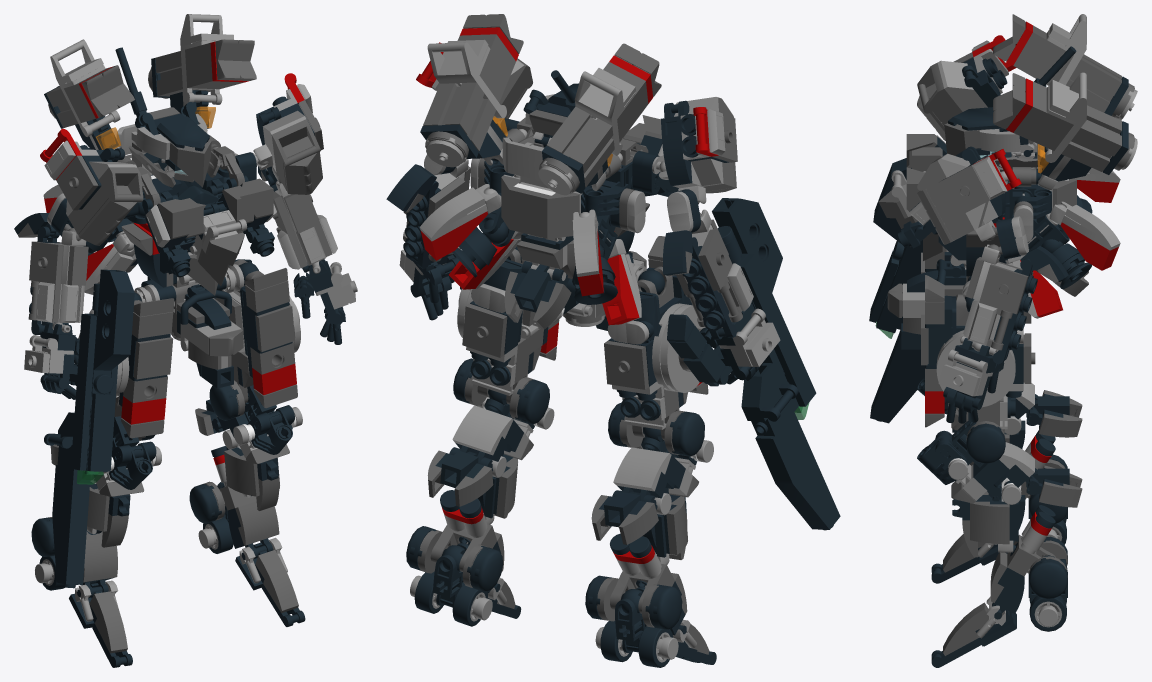
Rendered from refx-tn-86-koumori.dae.
3 views of the same model, side by side, from view 1: azimuth 30°, elevation 25°; view 2: azimuth 150°, elevation 25°; view 3: azimuth 270°, elevation 25° (orthographic). The views are drawn at different scales.
Bounding box in the file's own units: 403 × 272 × 644.
